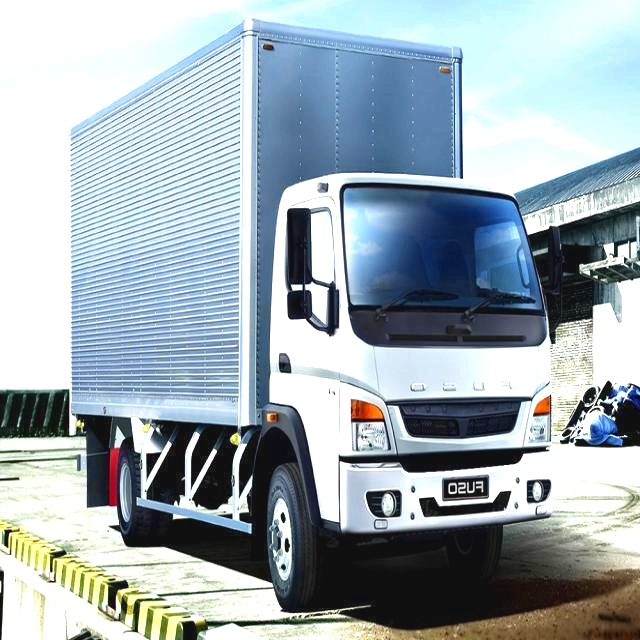truck: (37, 12, 599, 606)
